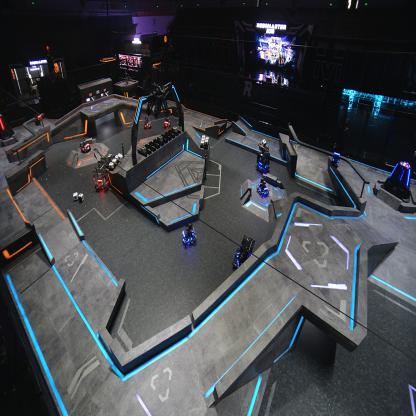car: (232, 234, 254, 273), (92, 155, 110, 193), (255, 141, 271, 173), (180, 221, 196, 249), (256, 177, 269, 198), (80, 137, 91, 153), (143, 116, 152, 129), (163, 116, 170, 128)
